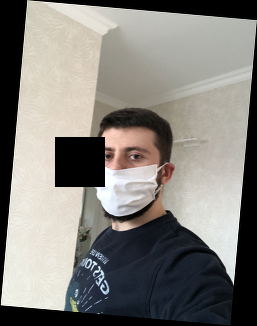with_mask: (90, 136, 158, 224)
